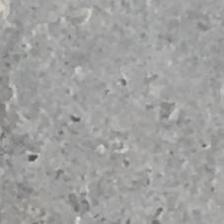Non_Crack: (17, 7, 192, 194)
